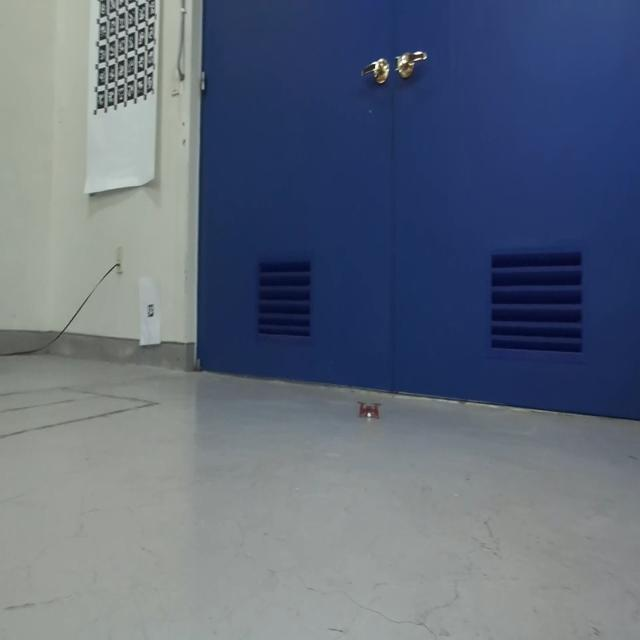crazyflie: (355, 397, 383, 424)
